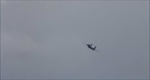maybay_muctieu: (85, 42, 100, 52)
